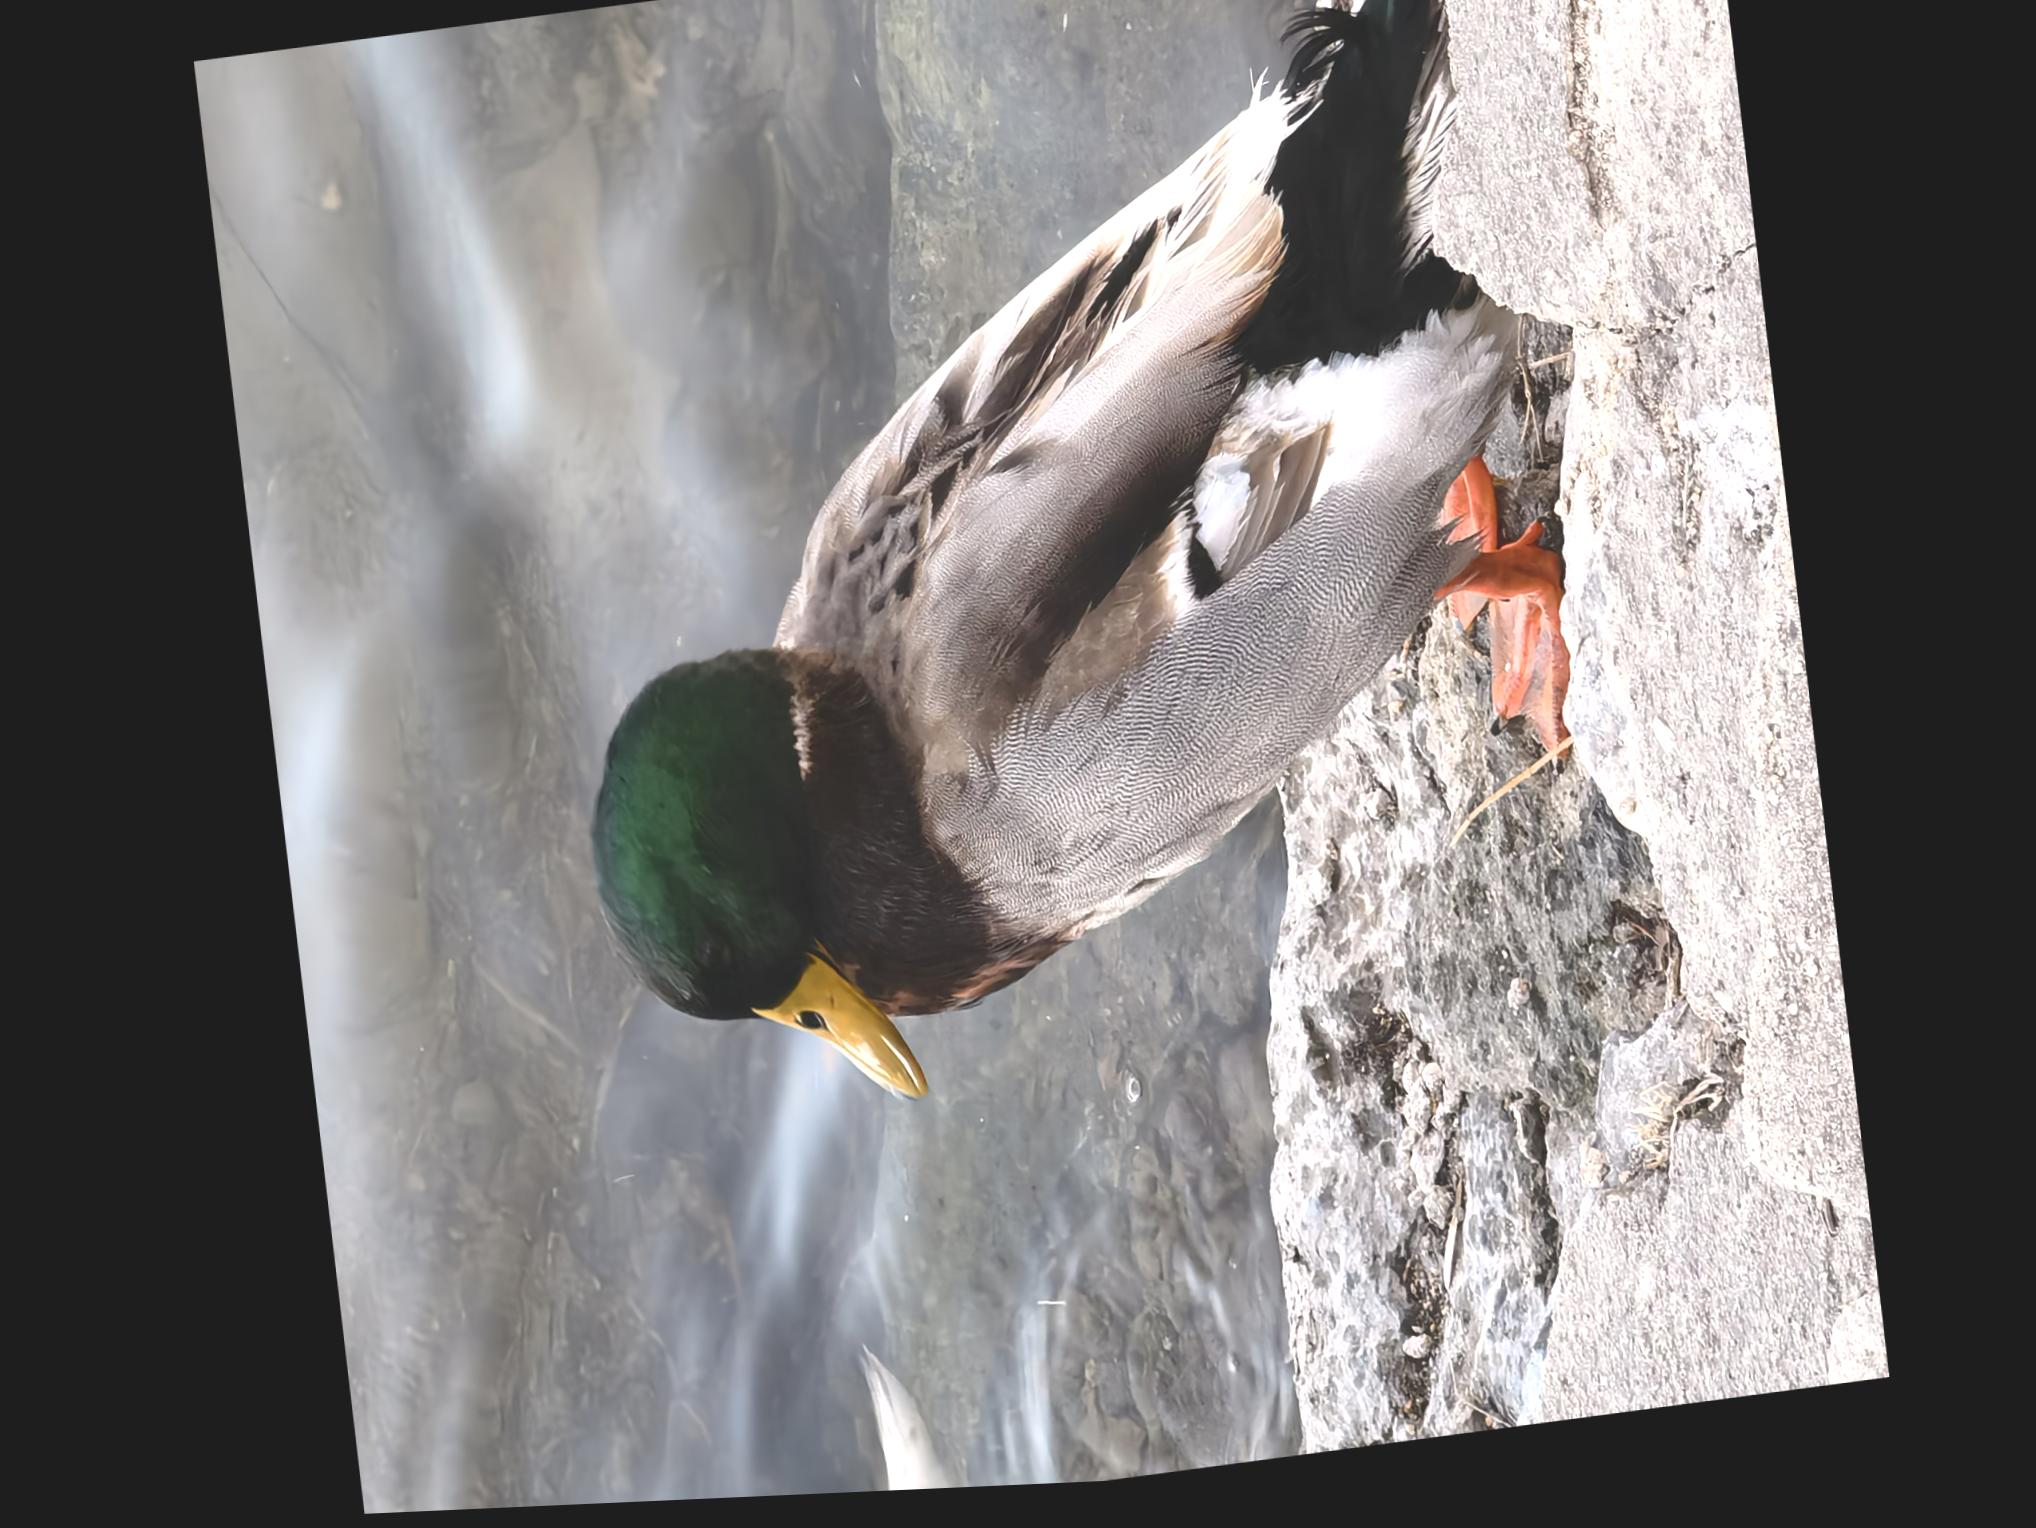duck: (489, 0, 1611, 1146)
